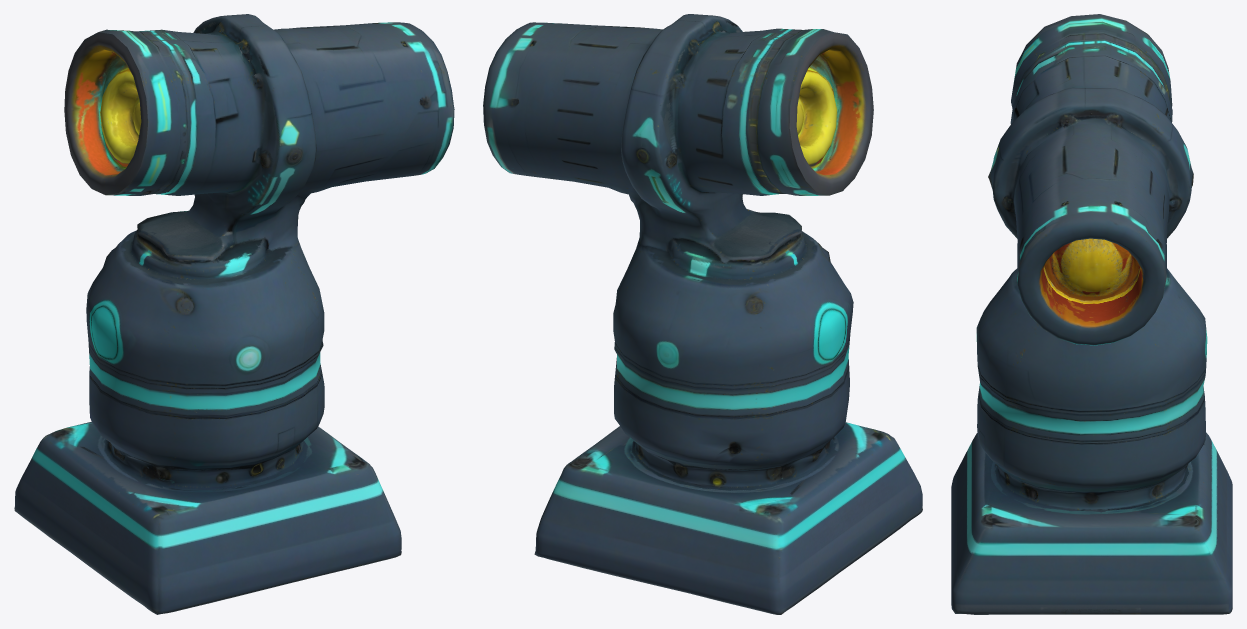
Rendered from A_turret_features_a_r_0926184413_texture.fbx.
3 views of the same model, side by side, from view 1: azimuth 30°, elevation 25°; view 2: azimuth 150°, elevation 25°; view 3: azimuth 270°, elevation 25° (orthographic). The views are drawn at different scales.
Visible parts, largest first — view 1: Mesh0; view 2: Mesh0; view 3: Mesh0.
Boxes of the visible parts, x1,y1,x2,y2 form: Mesh0: (14, 14, 454, 614); Mesh0: (483, 14, 922, 614); Mesh0: (951, 14, 1232, 614).
Bounding box in the file's own units: 131 × 191 × 97.12.
Materials: 1 (1 with a texture image).
